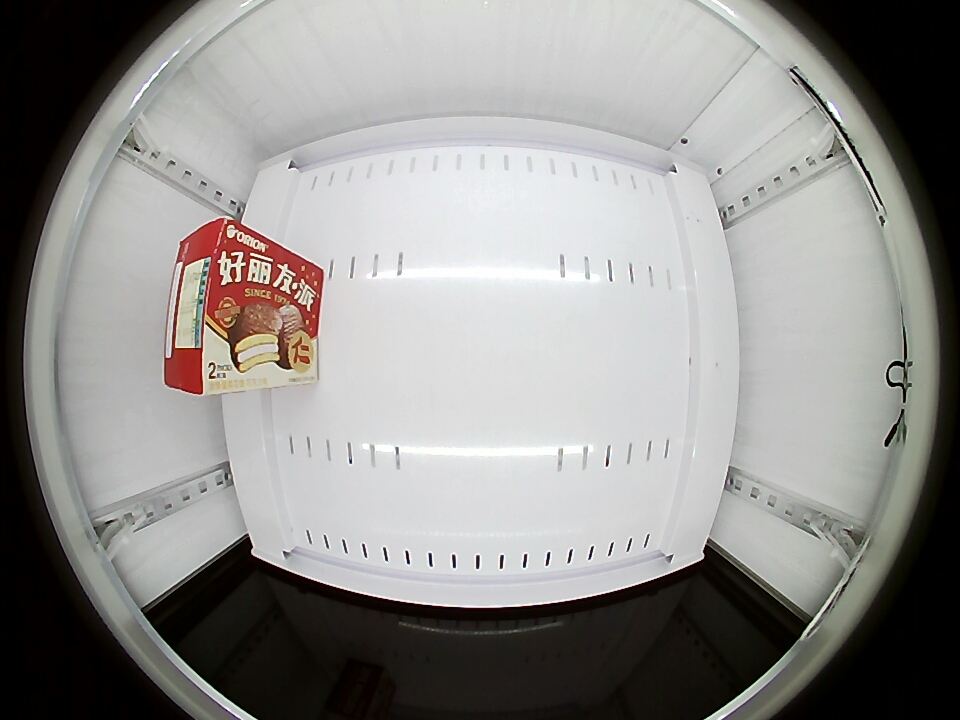haoliyou: (165, 219, 282, 395)
